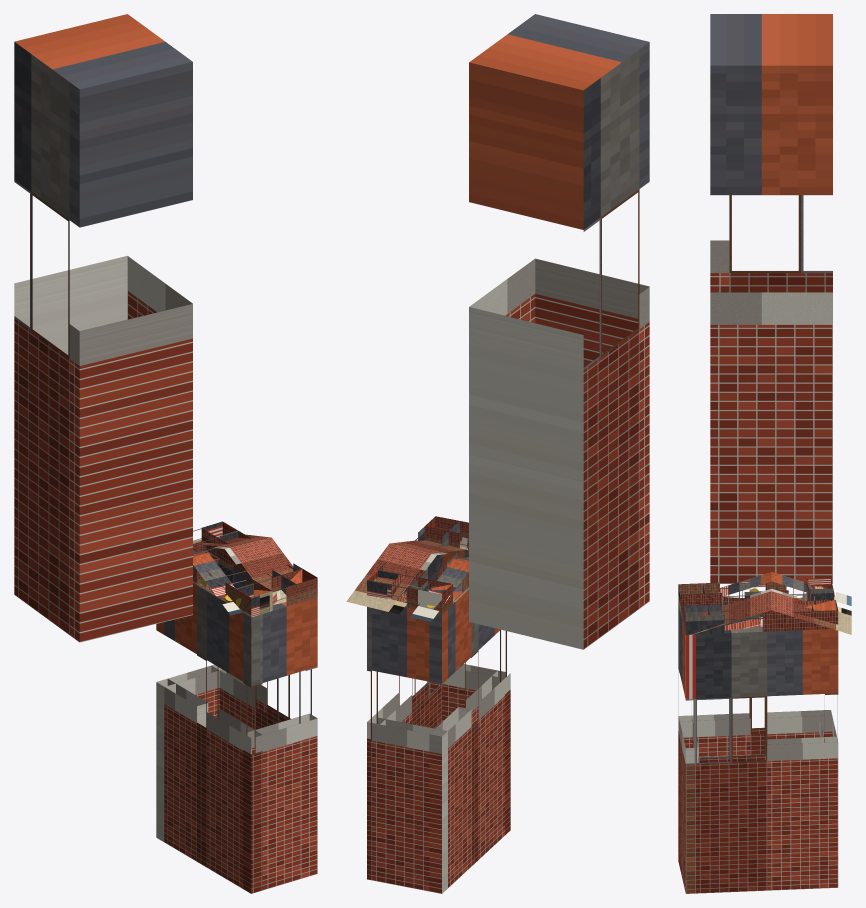
The picture shows the model from 3 angles, left to right: view 1: azimuth 30°, elevation 25°; view 2: azimuth 150°, elevation 25°; view 3: azimuth 270°, elevation 25°; orthographic projection. The views are drawn at different scales.
Visible parts, largest first — view 1: 238625183__chimney_0_xb, 238625183__wall_2_xb, 238625183__wall_1_xb, 238625183__wall_0_xb, 238625183_roof_-1_xb, 238625183__wall_3_xb, 238625183__wall_4_xb, 238625183__cornice_2, 238625183__cornice_1, 238625183__cornice_3; view 2: 238625183__chimney_0_xb, 238625183__wall_4_xb, 238625183__wall_0_xb, 238625183__wall_1_xb, 238625183_roof_1_xb, 238625183__wall_2_xb, 238625183__wall_3_xb, 238625183__cornice_4, 238625183__cornice_2, 238625183__cornice_0, 238625183__cornice_3, 238625183_roof_-1_xb; view 3: 238625183__chimney_0_xb, 238625183__wall_3_xb, 238625183__wall_1_xb, 238625183__cornice_3, 238625183_roof_1_xb, 238625183__wall_0_xb, 238625183__wall_2_xb, 238625183_roof_-1_xb, 238625183__cornice_1, 238625183__cornice_0.
Boxes of the visible parts, x1,y1,x2,y2 form: 238625183__chimney_0_xb: (14, 14, 192, 642); 238625183__wall_2_xb: (243, 597, 317, 893); 238625183__wall_1_xb: (197, 584, 262, 893); 238625183__wall_0_xb: (164, 583, 208, 861); 238625183_roof_-1_xb: (193, 537, 293, 615); 238625183__wall_3_xb: (211, 558, 317, 729); 238625183__wall_4_xb: (156, 551, 227, 841); 238625183__cornice_2: (236, 568, 317, 617); 238625183__cornice_1: (197, 559, 272, 616); 238625183__cornice_3: (201, 521, 301, 594); 238625183__chimney_0_xb: (469, 14, 649, 649); 238625183__wall_4_xb: (367, 601, 447, 893); 238625183__wall_0_xb: (429, 589, 471, 893); 238625183__wall_1_xb: (465, 622, 510, 865); 238625183_roof_1_xb: (346, 543, 468, 622); 238625183__wall_2_xb: (429, 541, 510, 835); 238625183__wall_3_xb: (367, 554, 442, 738); 238625183__cornice_4: (367, 569, 452, 613); 238625183__cornice_2: (424, 516, 468, 552); 238625183__cornice_0: (418, 563, 468, 609); 238625183__cornice_3: (369, 521, 459, 598); 238625183_roof_-1_xb: (390, 540, 468, 562); 238625183__chimney_0_xb: (710, 14, 832, 583); 238625183__wall_3_xb: (684, 626, 838, 893); 238625183__wall_1_xb: (678, 603, 764, 865); 238625183__cornice_3: (683, 600, 838, 634); 238625183_roof_1_xb: (771, 572, 851, 634); 238625183__wall_0_xb: (767, 597, 832, 739); 238625183__wall_2_xb: (679, 609, 698, 893); 238625183_roof_-1_xb: (692, 572, 771, 634); 238625183__cornice_1: (678, 581, 765, 612); 238625183__cornice_0: (765, 578, 833, 600).
Size of the model in its own units: 0.2977 by 1.05 by 0.2118.
1 material, 1 textured.
